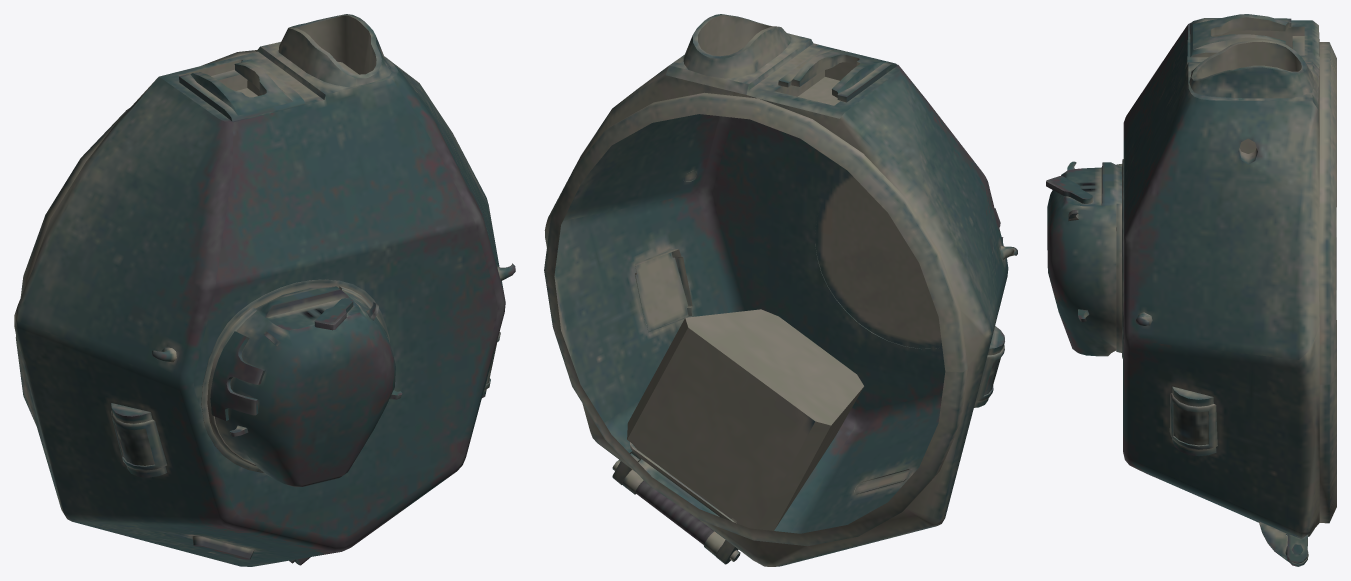
Rendered from Turret_01.glb.
3 renders of one model, left to right at view 1: azimuth 30°, elevation 25°; view 2: azimuth 150°, elevation 25°; view 3: azimuth 270°, elevation 25°, orthographic. The views are drawn at different scales.
Parts seen in each view (by area): view 1: set_0_group_0; view 2: set_0_group_0; view 3: set_0_group_0.
Boxes of the visible parts, bbox=[...] form: set_0_group_0: bbox=[14, 14, 515, 566]; set_0_group_0: bbox=[544, 14, 1017, 566]; set_0_group_0: bbox=[1046, 14, 1336, 566].
Bounding box in the file's own units: 1.41 × 1.58 × 0.7996.
Materials: 1 (1 with a texture image).
